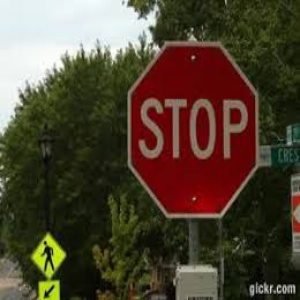STOP_SIGN: (126, 41, 259, 218)
